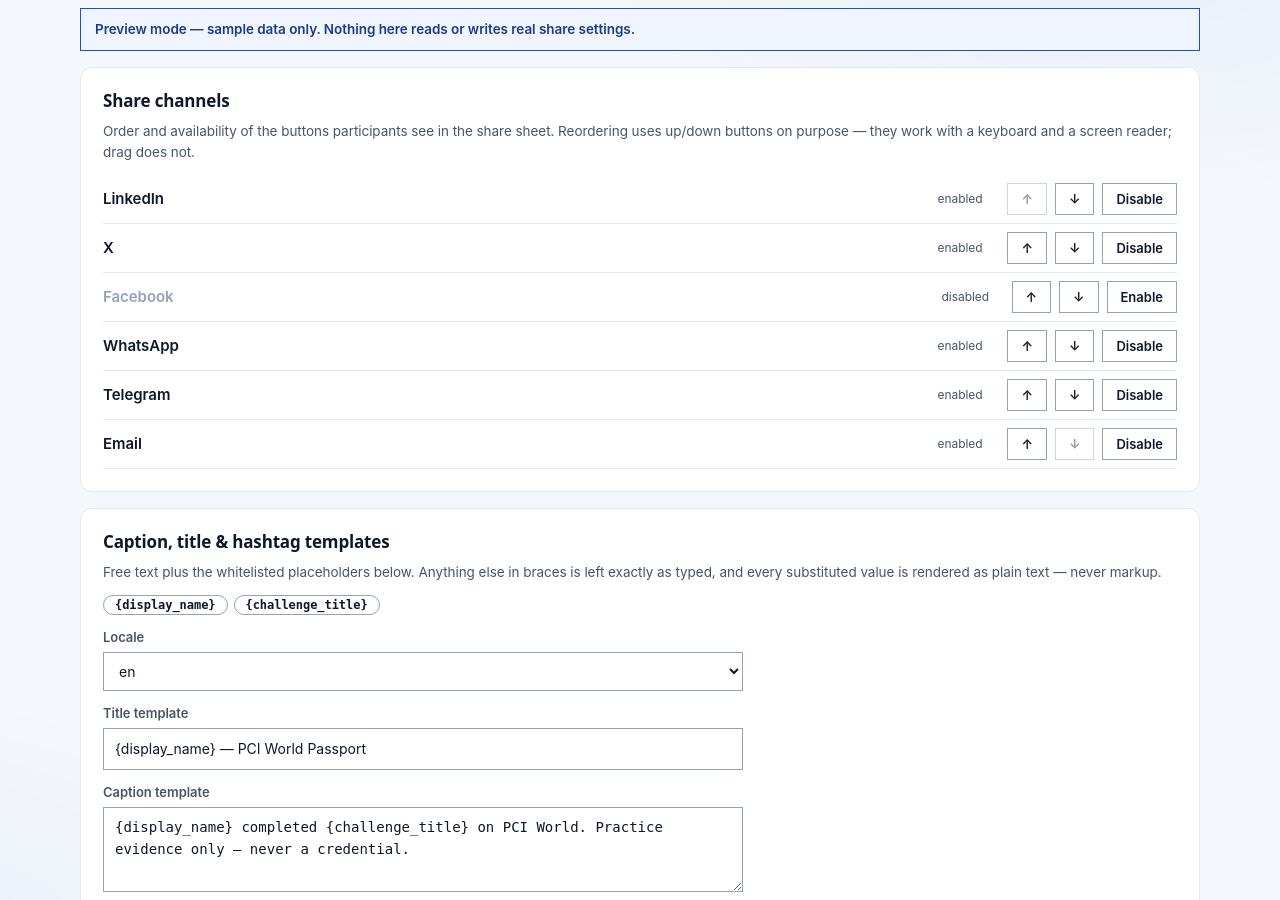
Test case: channel management › reorders with accessible up/down buttons and toggles enable/disable
expect the heading "Share channels" is shown: met, box left=103, top=89, right=230, bottom=112
expect the button named "Move LinkedIn up" is disabled: met, box left=1008, top=183, right=1047, bottom=215
Click the button named "Move X up" at (1027, 248), box left=1008, top=232, right=1047, bottom=264
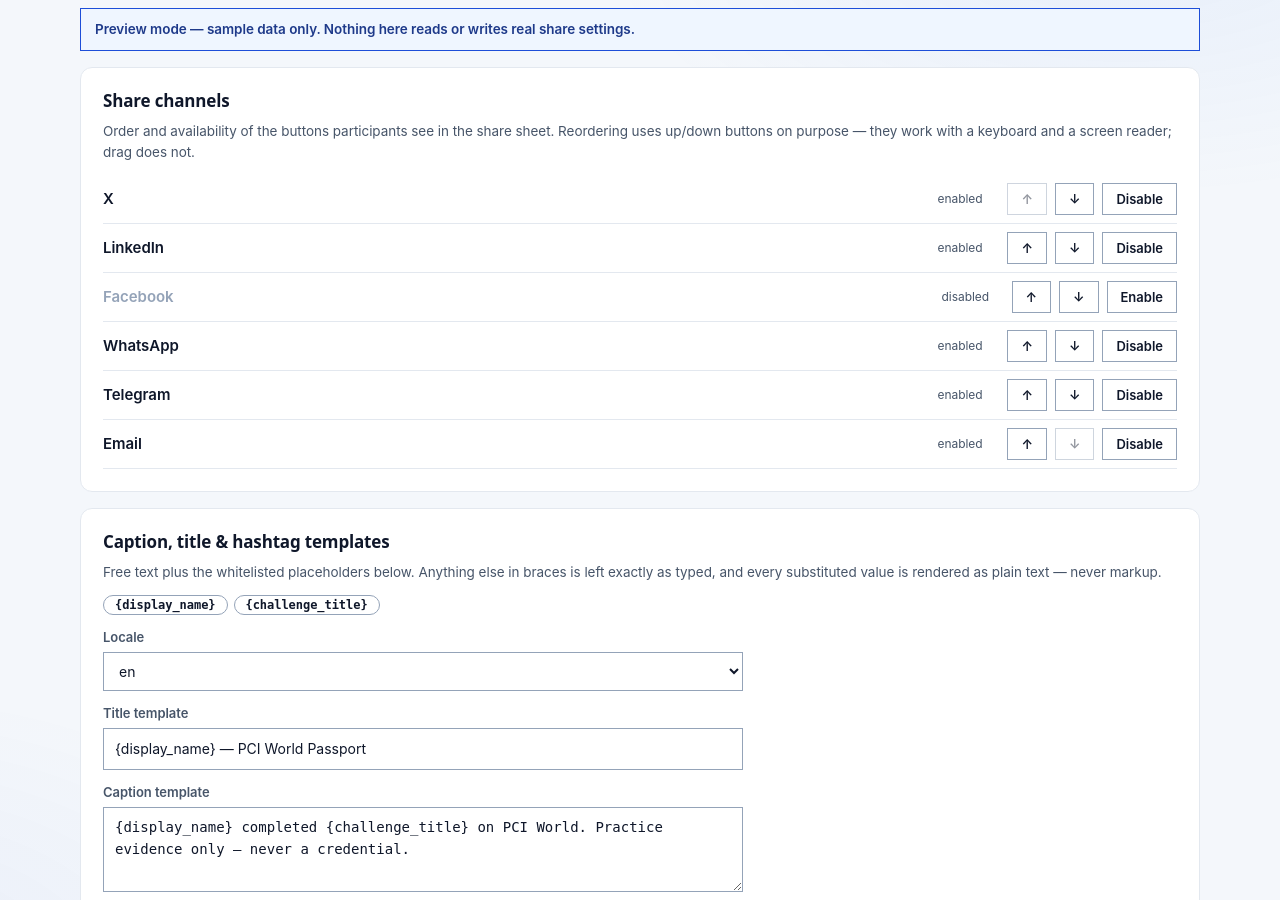
Note: fixture state: facebook starts disabled → enable it
Click the button with aria-label "Enable Facebook" at (1142, 297), box left=1106, top=281, right=1177, bottom=313
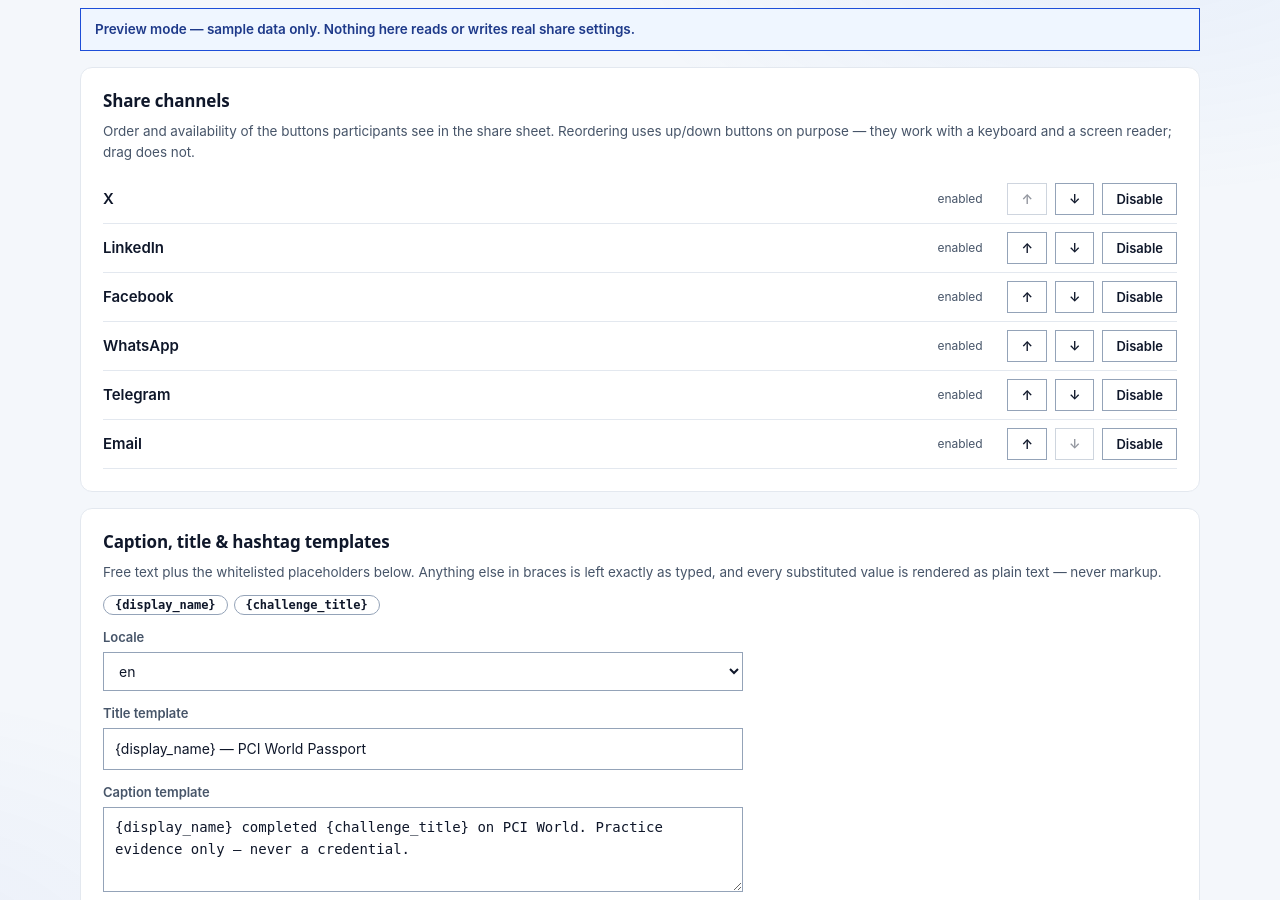
expect the button with aria-label "Disable Facebook" is shown: met, box left=1102, top=281, right=1177, bottom=313
